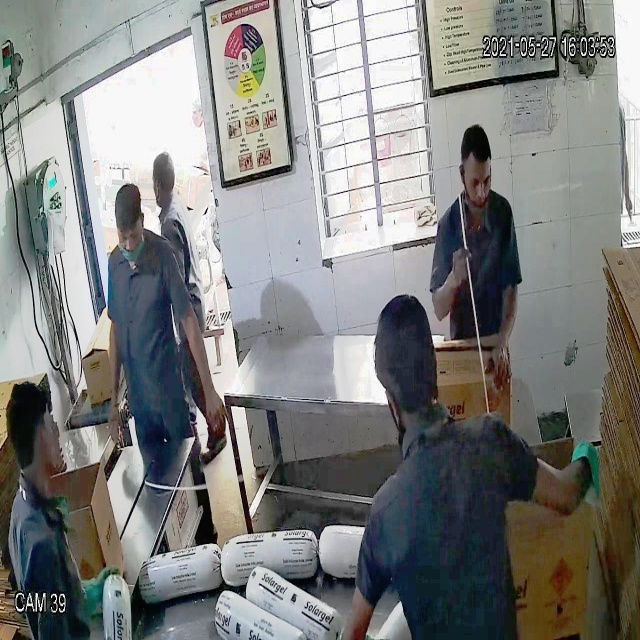Sin_gafas: (456, 166, 497, 198)
